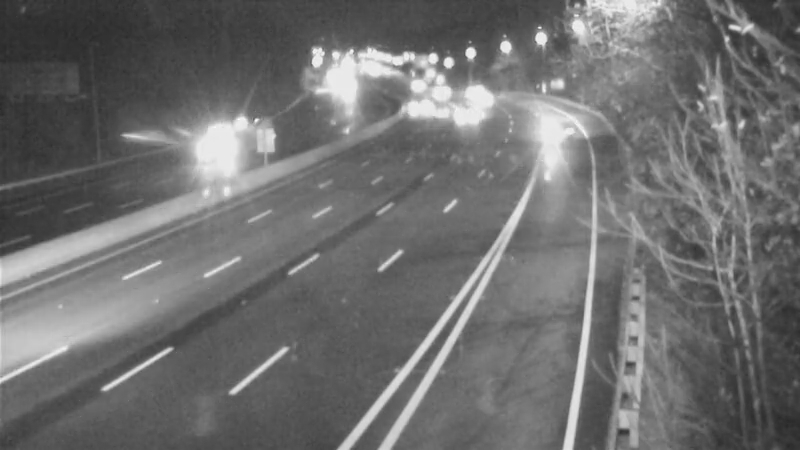vehicle: (175, 112, 255, 192), (391, 63, 441, 113), (445, 65, 495, 115), (417, 67, 467, 117), (455, 79, 505, 129), (393, 81, 443, 131), (410, 83, 460, 133), (429, 95, 479, 145), (533, 105, 583, 155)
